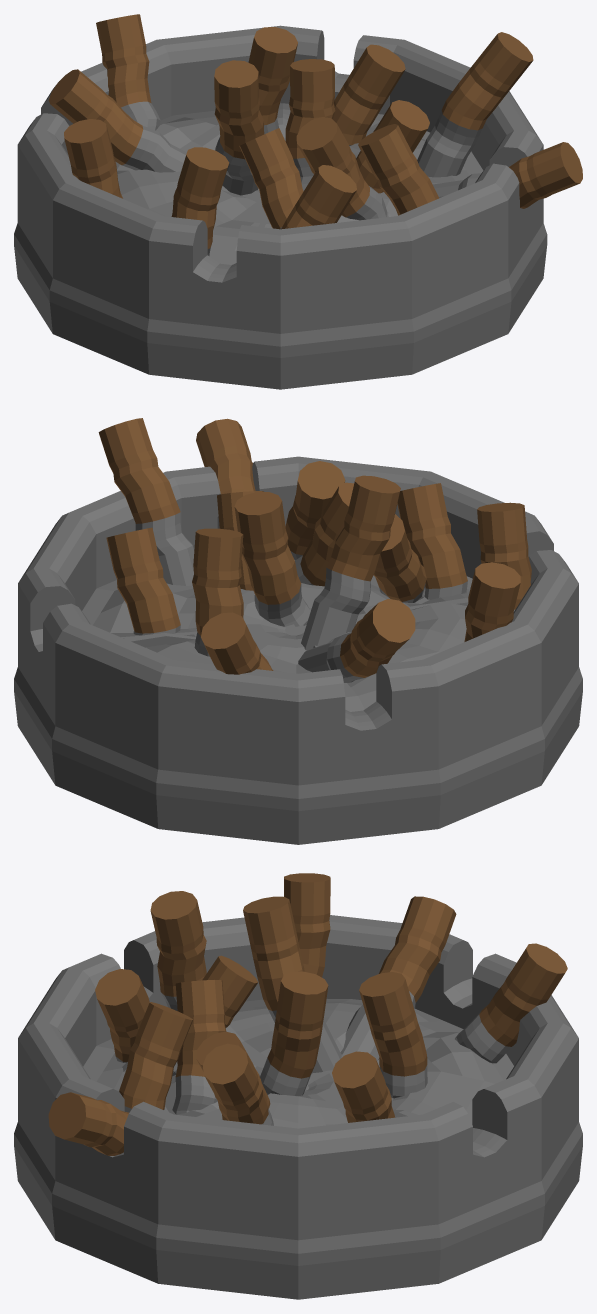
The model's file is pepelnicai.fbx.
3 renders of one model, top to bottom at view 1: azimuth 30°, elevation 25°; view 2: azimuth 150°, elevation 25°; view 3: azimuth 270°, elevation 25°, orthographic. The views are drawn at different scales.
Visible parts, largest first — view 1: пепельница; view 2: пепельница; view 3: пепельница.
Part boxes in pixels (x1=…): пепельница: x1=14, y1=14, x2=582, y2=389; пепельница: x1=14, y1=418, x2=582, y2=844; пепельница: x1=14, y1=873, x2=582, y2=1299.
Bounding box in the file's own units: 59.44 × 28.86 × 59.44.
